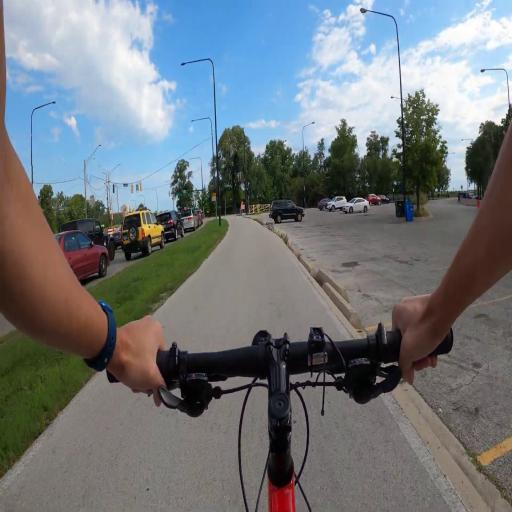Street_Light: (359, 4, 407, 142), (178, 57, 222, 194), (30, 95, 60, 189), (188, 112, 215, 176), (478, 64, 512, 108), (82, 135, 104, 202), (104, 156, 125, 213), (187, 153, 207, 195), (300, 116, 318, 152)
